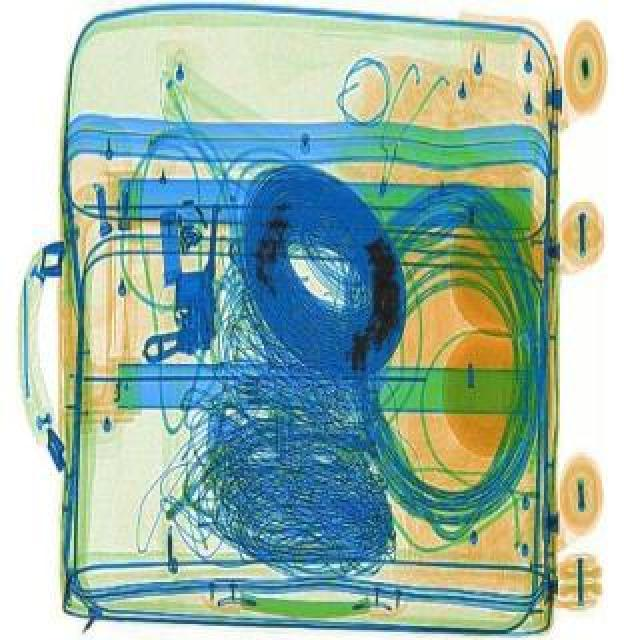gun: (136, 190, 252, 370)
